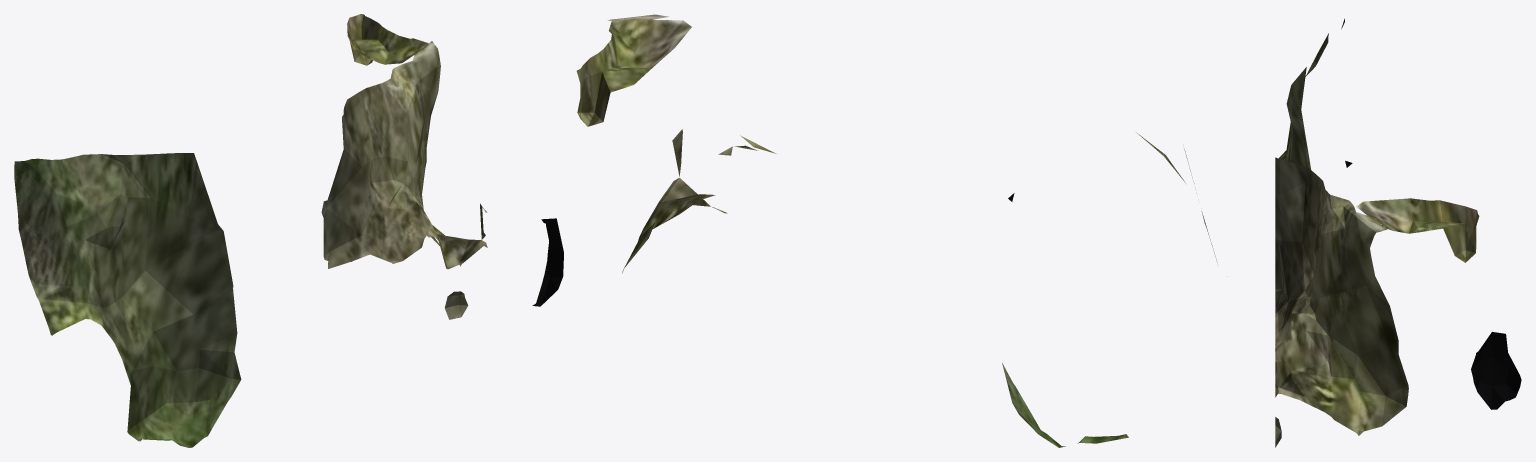
3 renders of one model, left to right at view 1: azimuth 30°, elevation 25°; view 2: azimuth 150°, elevation 25°; view 3: azimuth 270°, elevation 25°, orthographic. The views are drawn at different scales.
Bounding box in the file's own units: 2.95 × 1.9 × 1.43.
2 materials, 2 textured.
